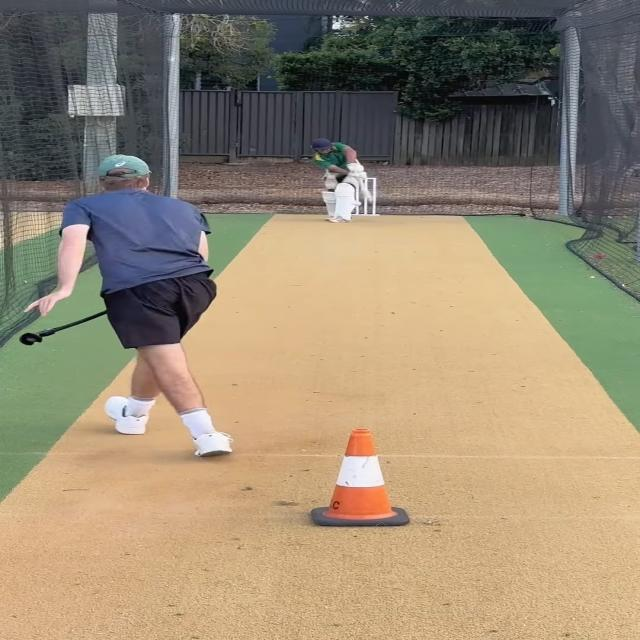Cricket ball: (352, 200, 364, 207)
